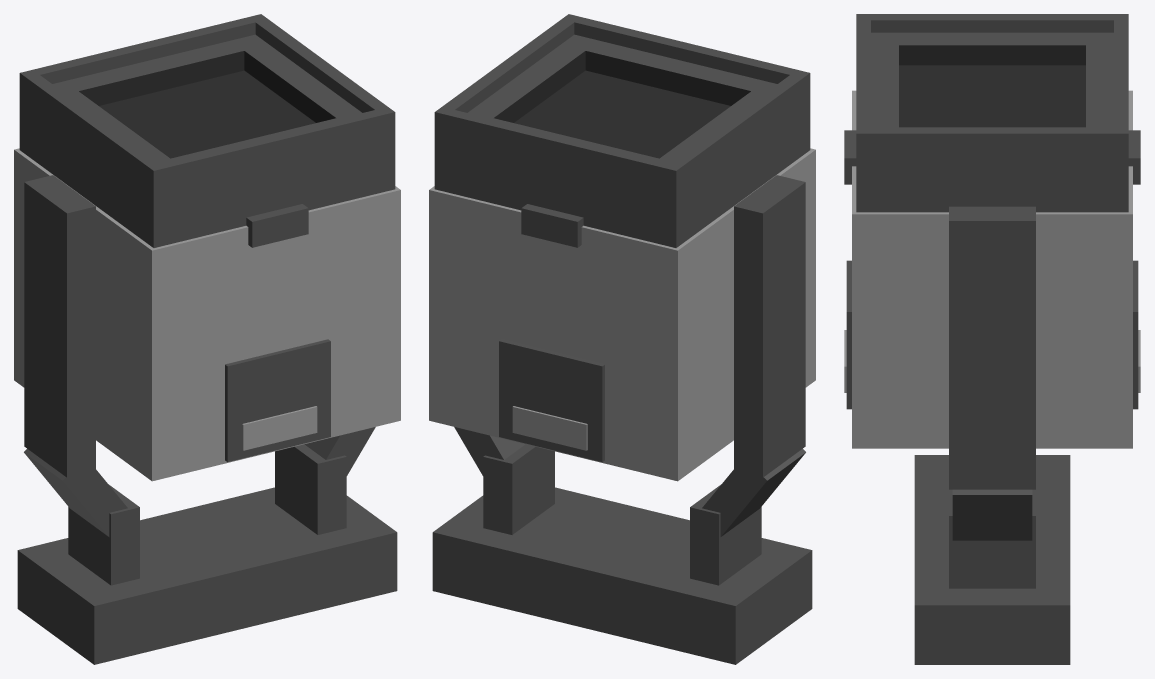
Rendered from trash_can_2.fbx.
The picture shows the model from 3 angles, left to right: view 1: azimuth 30°, elevation 25°; view 2: azimuth 150°, elevation 25°; view 3: azimuth 270°, elevation 25°; orthographic projection.
Parts seen in each view (by area): view 1: Cube.515, Cube.511; view 2: Cube.515, Cube.511; view 3: Cube.515, Cube.511.
Boxes of the visible parts, x1=… form: Cube.515: x1=14, y1=14, x2=400, y2=481; Cube.511: x1=17, y1=175, x2=397, y2=664; Cube.515: x1=429, y1=14, x2=815, y2=481; Cube.511: x1=432, y1=175, x2=812, y2=664; Cube.515: x1=844, y1=14, x2=1140, y2=448; Cube.511: x1=914, y1=206, x2=1070, y2=664.
Size of the model in its own units: 33.8 by 49.89 by 25.98.
